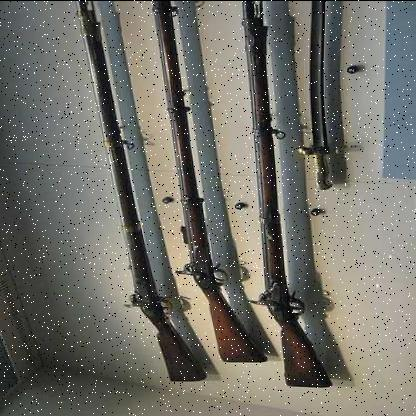rifle: (50, 1, 215, 393), (127, 1, 275, 370), (250, 1, 316, 394)
